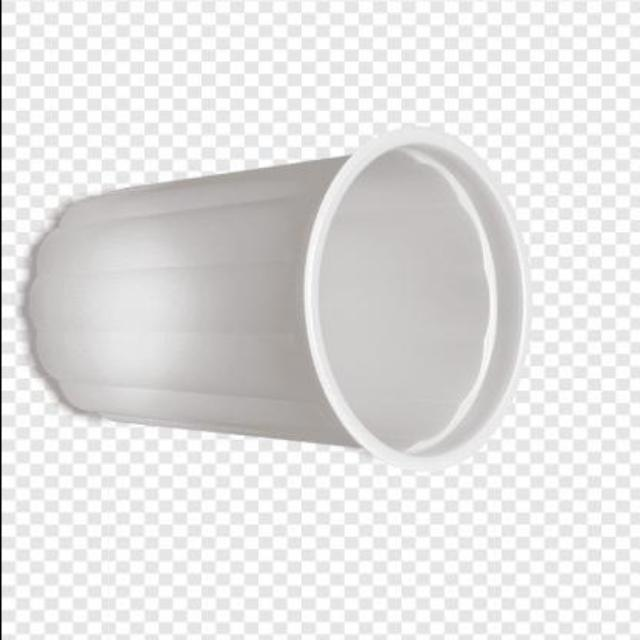plastic_cup: (19, 126, 526, 467)
